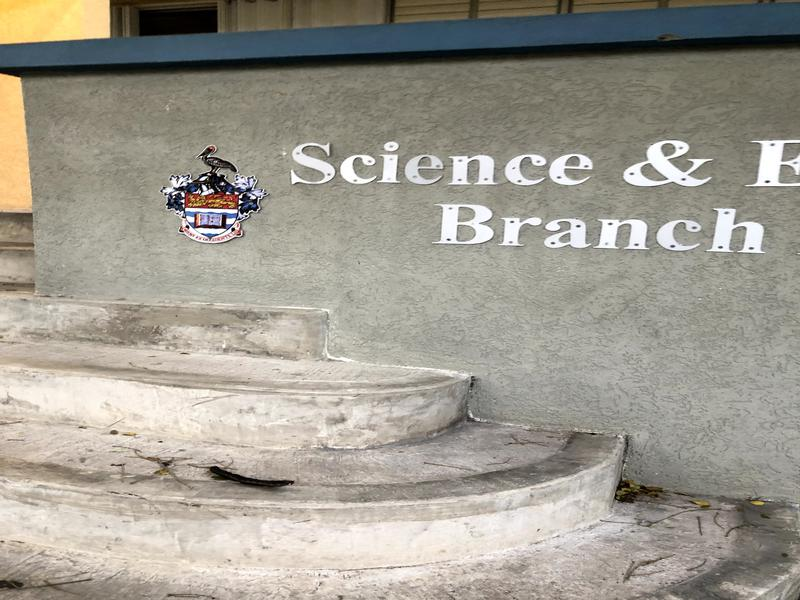18.0053644_-76.7493880_librarysign: (285, 119, 800, 284)
